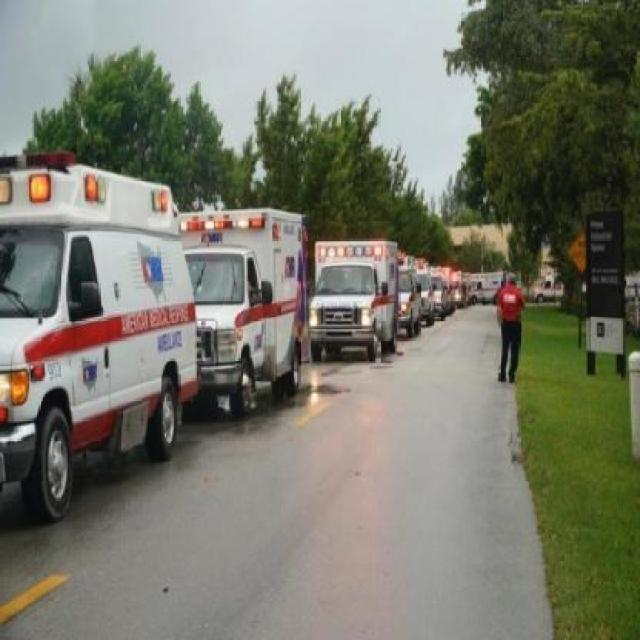emergency: (1, 150, 200, 522), (175, 206, 311, 418), (318, 227, 390, 366), (397, 246, 441, 338)
